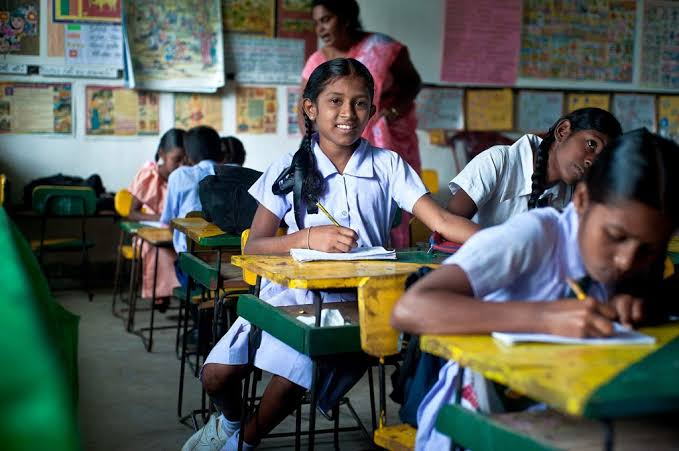student: (537, 106, 626, 185), (300, 60, 378, 147)
